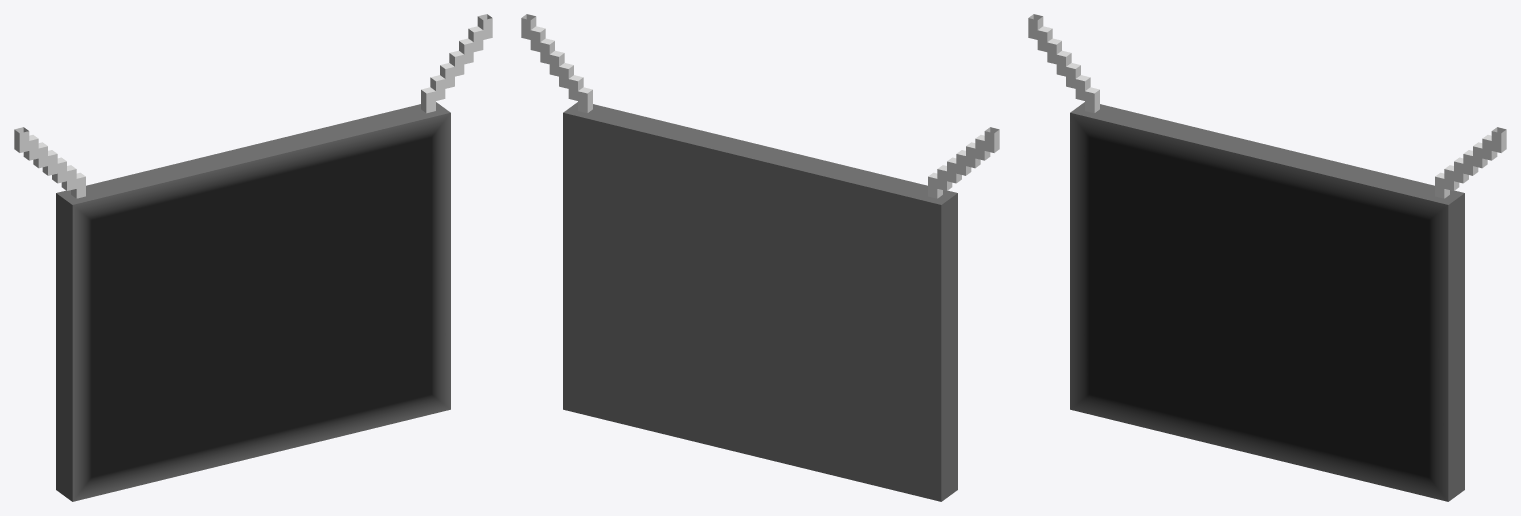
The model's file is monitor.fbx.
3 renders of one model, left to right at view 1: azimuth 30°, elevation 25°; view 2: azimuth 150°, elevation 25°; view 3: azimuth 330°, elevation 25°, orthographic.
Parts seen in each view (by area): view 1: montor; view 2: montor; view 3: montor.
Boxes of the visible parts, <box> form: montor: <box>14,14,492,501</box>; montor: <box>521,14,999,501</box>; montor: <box>1028,14,1506,501</box>.
Size of the model in its own units: 500 by 380 by 30.
